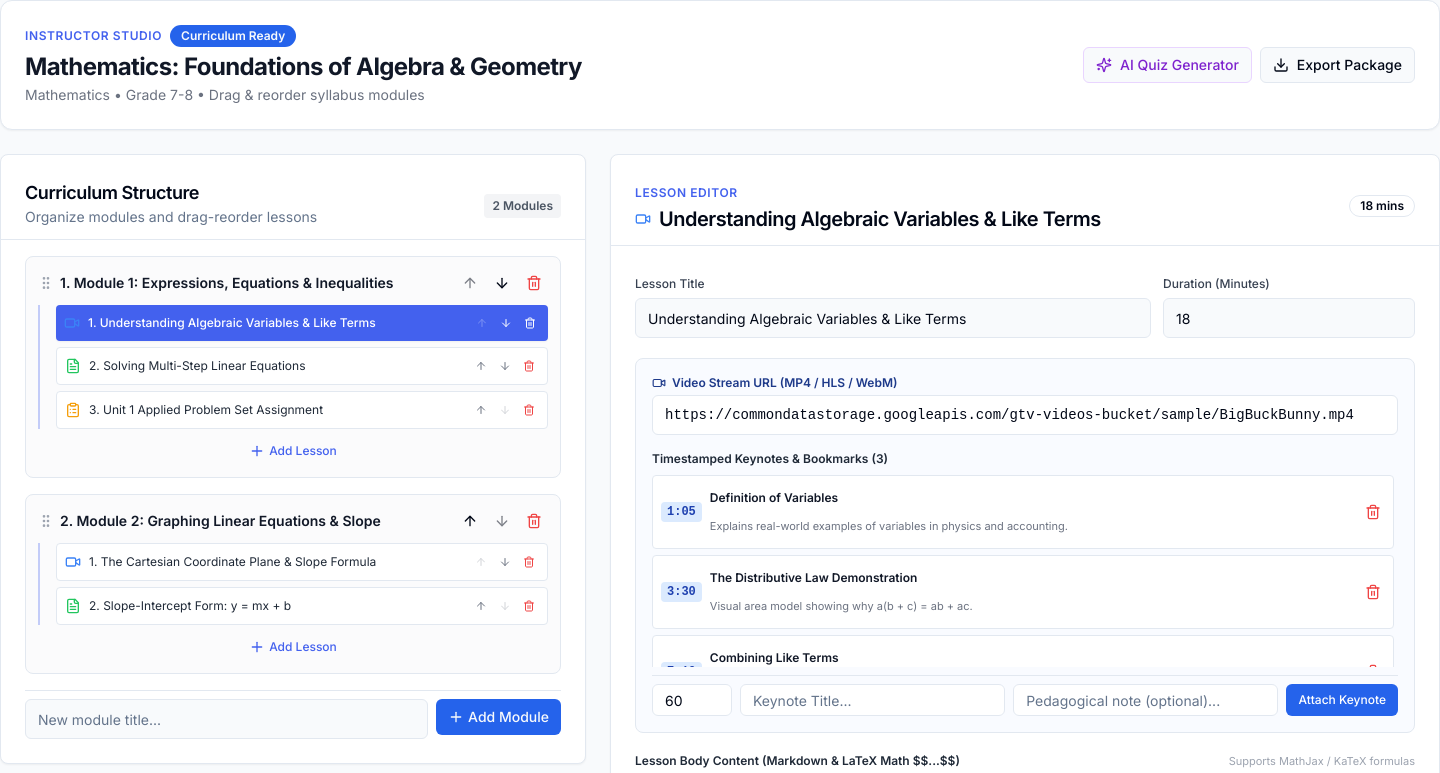
CourseBuilderStudio Component › allows selecting a different lesson and displays its content
Click the text "2. Solving Multi-Step Linear Equations". click: (197, 366)
box: [89,358,306,374]
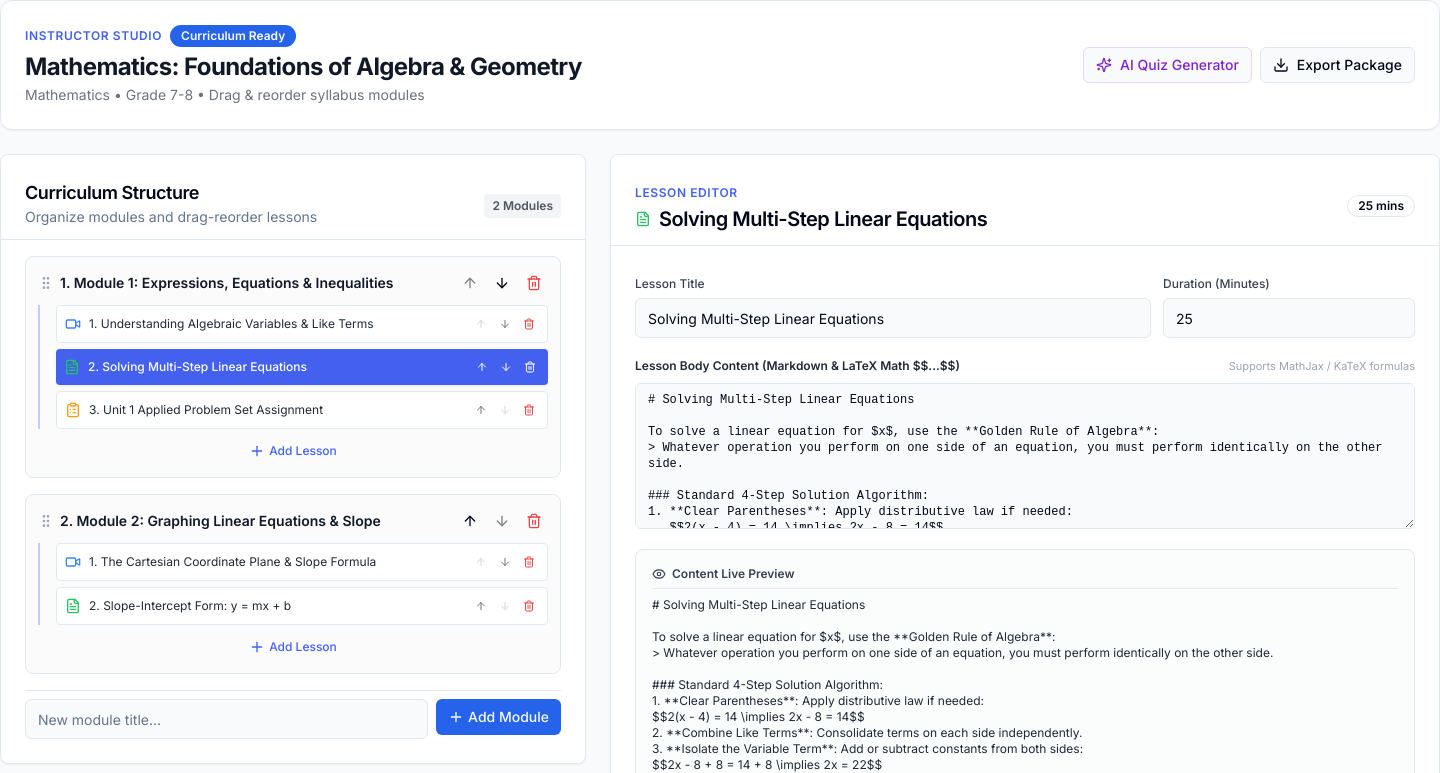
Expected: the field showing "Solving Multi-Step Linear Equations" is shown, [635,298,1151,338]
